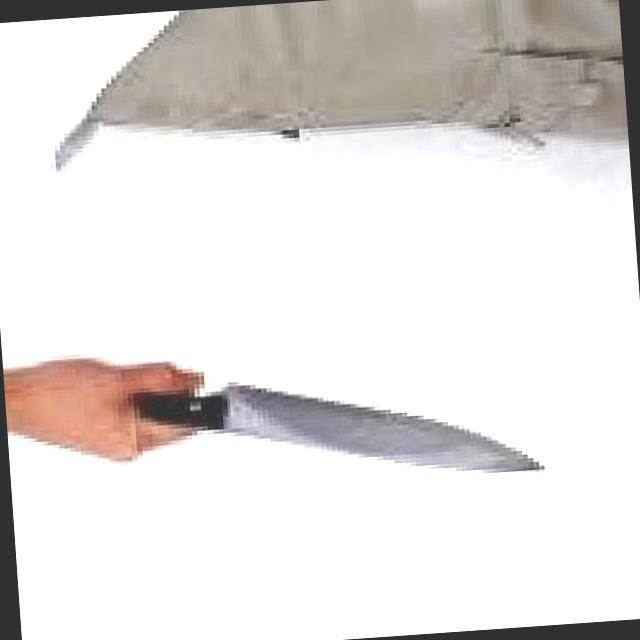knife: (90, 325, 578, 517)
